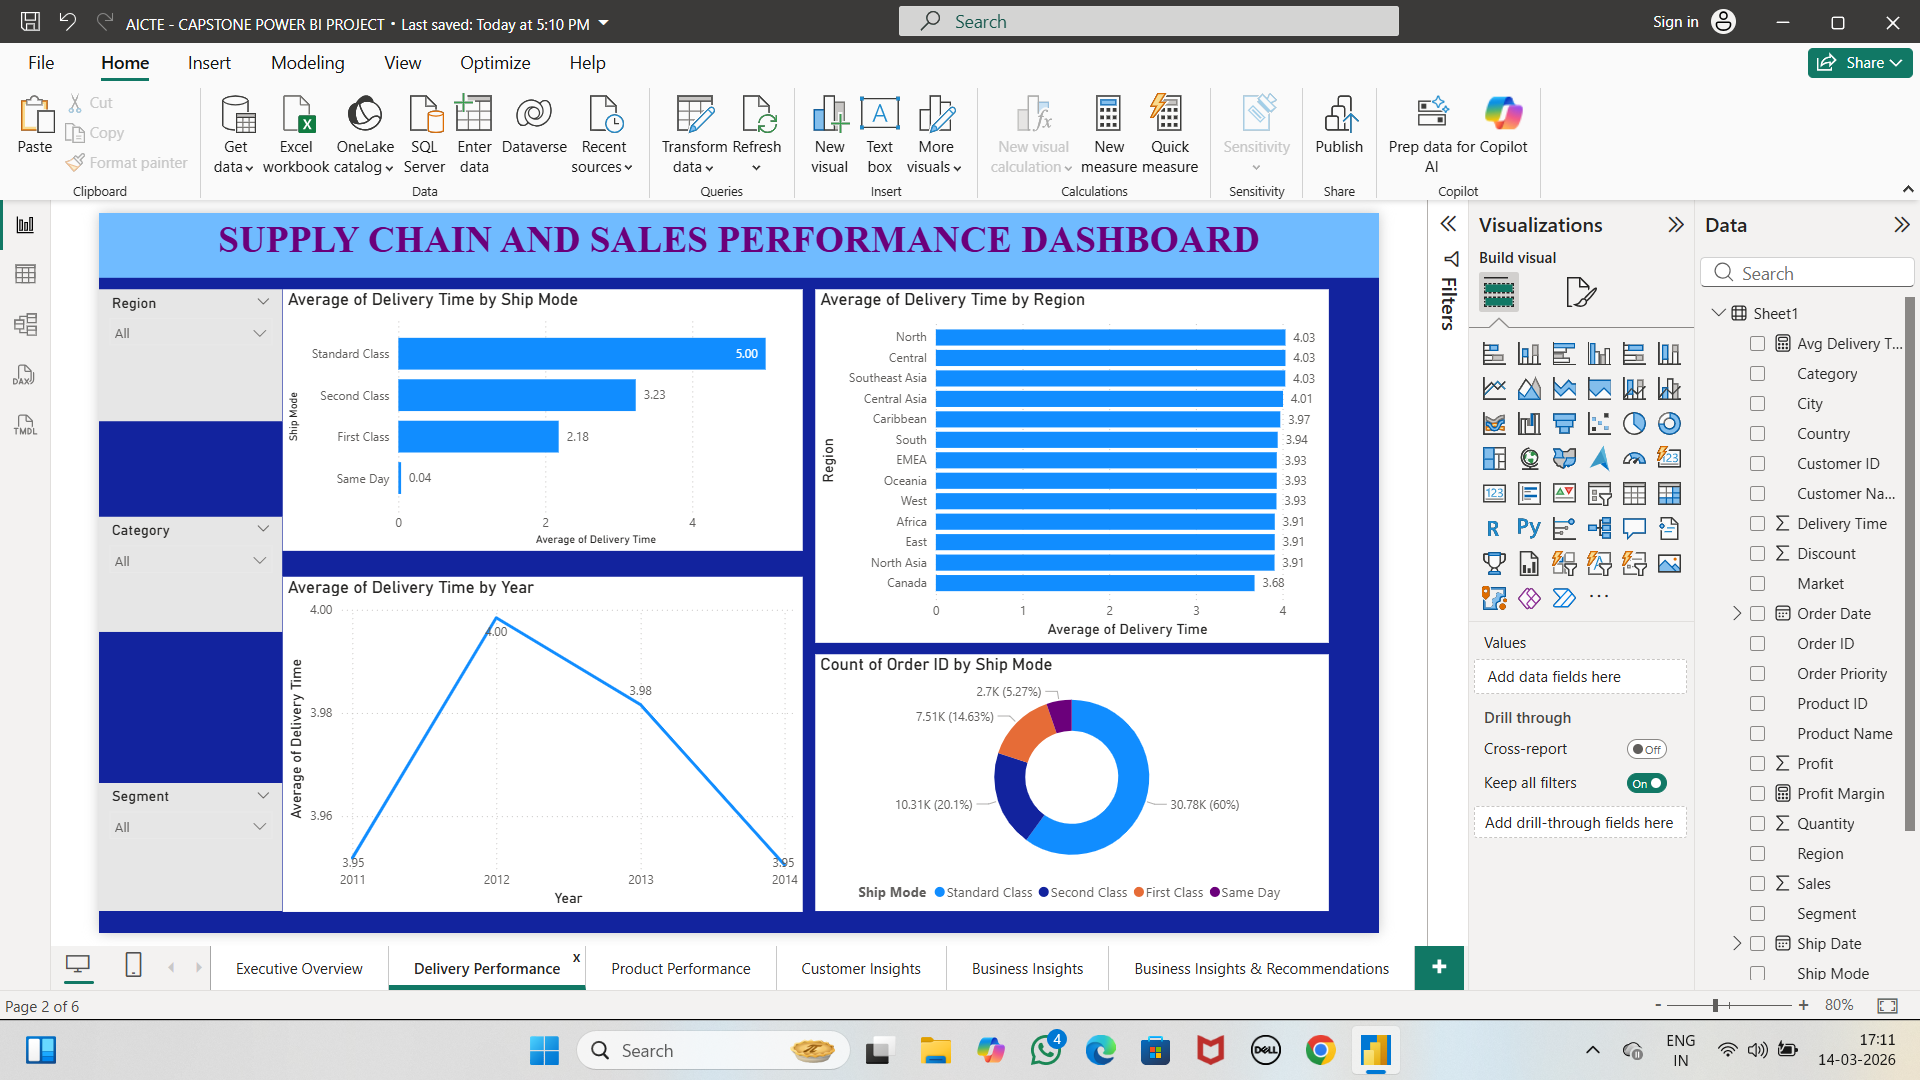

This screenshot's page, from the dashboard's own definition file:
{"tool":"powerbi","page":{"name":"Delivery Performance","canvas":[1280,720],"ordinal":1},"visuals":[{"type":"textbox","box":[0,0,1280,65],"z":1000},{"type":"clusteredBarChart","fields":{"Y":["Avg(Sheet1.Delivery Time)"],"Category":["Sheet1.Ship Mode"]},"box":[183.3,76.7,520,261.7],"z":2000},{"type":"barChart","fields":{"Category":["Sheet1.Region"],"Y":["Avg(Sheet1.Delivery Time)"]},"box":[716.7,76.7,513.3,353.3],"z":3000},{"type":"lineChart","fields":{"Category":["Sheet1.Order Date.Variation.Date Hierarchy.Year","Sheet1.Order Date.Variation.Date Hierarchy.Quarter","Sheet1.Order Date.Variation.Date Hierarchy.Month","Sheet1.Order Date.Variation.Date Hierarchy.Day"],"Y":["Avg(Sheet1.Delivery Time)"]},"box":[183.3,363.3,520,335],"z":4000},{"type":"donutChart","fields":{"Y":["CountNonNull(Sheet1.Order ID)"],"Category":["Sheet1.Ship Mode"]},"box":[716.7,441.7,513.3,256.7],"z":5000},{"type":"slicer","fields":{"Values":["Sheet1.Region"]},"box":[0,76.7,183.3,131.7],"z":6000},{"type":"slicer","fields":{"Values":["Sheet1.Category"]},"box":[0,303.3,183.3,115],"z":7000},{"type":"slicer","fields":{"Values":["Sheet1.Segment"]},"box":[0,570,183.3,128.3],"z":8000}]}

Visuals, with their boxes on the page's 1280x720 design canvas (x1, y1, x2, y2). These are canvas units, not pixel positions in the 1920x1080 screenshot, which may show the page scaled, cropped or inside an application window:
textbox: <box>0,0,1280,65</box>
clusteredBarChart - Avg(Sheet1.Delivery Time) x Sheet1.Ship Mode: <box>183,77,703,338</box>
barChart - Sheet1.Region x Avg(Sheet1.Delivery Time): <box>717,77,1230,430</box>
lineChart - Sheet1.Order Date.Variation.Date Hierarchy.Year x Sheet1.Order Date.Variation.Date Hierarchy.Quarter: <box>183,363,703,698</box>
donutChart - CountNonNull(Sheet1.Order ID) x Sheet1.Ship Mode: <box>717,442,1230,698</box>
slicer - Sheet1.Region: <box>0,77,183,208</box>
slicer - Sheet1.Category: <box>0,303,183,418</box>
slicer - Sheet1.Segment: <box>0,570,183,698</box>
